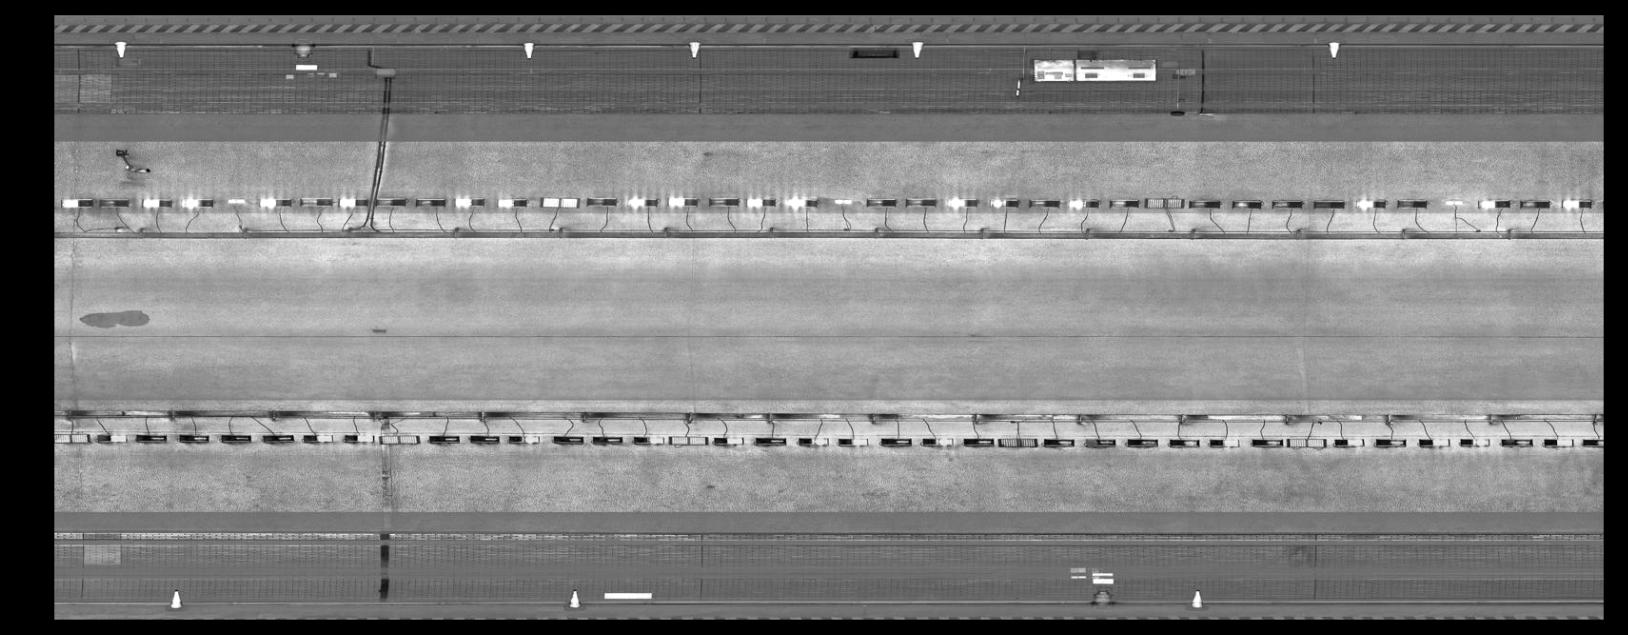light: (537, 193, 584, 211), (376, 430, 423, 447), (993, 434, 1041, 449), (1283, 434, 1328, 450), (783, 192, 821, 211), (55, 429, 93, 447), (1143, 194, 1186, 211), (666, 433, 710, 448), (450, 193, 488, 211), (491, 193, 530, 211), (1329, 434, 1369, 450), (625, 192, 662, 210), (1082, 435, 1119, 451), (1204, 434, 1242, 450), (1540, 435, 1579, 450), (1124, 434, 1161, 450), (178, 195, 216, 211), (710, 432, 749, 447), (751, 433, 789, 448), (1498, 435, 1537, 450), (1184, 196, 1224, 211), (1474, 195, 1515, 210), (917, 434, 957, 448), (1558, 195, 1594, 212), (335, 192, 373, 208), (705, 193, 742, 209), (794, 433, 832, 448), (1248, 435, 1285, 450), (1415, 434, 1453, 449), (296, 193, 335, 208), (1226, 196, 1266, 211), (91, 430, 131, 444), (425, 432, 464, 446), (505, 432, 544, 446), (584, 193, 620, 209), (742, 194, 779, 210), (1269, 196, 1307, 211), (1351, 196, 1389, 211), (259, 431, 297, 445), (465, 432, 504, 446), (550, 432, 589, 446), (1166, 435, 1201, 450), (1373, 435, 1408, 450), (216, 431, 256, 444), (1105, 195, 1142, 210), (1310, 196, 1348, 211), (1392, 196, 1430, 211), (1456, 435, 1493, 449), (131, 431, 170, 444), (1040, 435, 1080, 448), (945, 195, 981, 210), (1065, 196, 1102, 211), (300, 431, 336, 445), (257, 194, 296, 208), (833, 435, 871, 448), (877, 435, 915, 448), (666, 194, 700, 209), (863, 195, 899, 209), (1518, 197, 1554, 211), (340, 431, 376, 444), (590, 433, 626, 446), (960, 435, 997, 448), (138, 196, 177, 209), (903, 195, 939, 209), (177, 431, 212, 444), (631, 433, 667, 446), (58, 196, 96, 209), (94, 196, 132, 209), (1026, 196, 1063, 209), (986, 195, 1021, 209), (412, 195, 449, 208), (373, 196, 411, 208), (1580, 434, 1603, 447), (1441, 197, 1467, 208), (831, 197, 854, 205), (222, 195, 248, 202)
